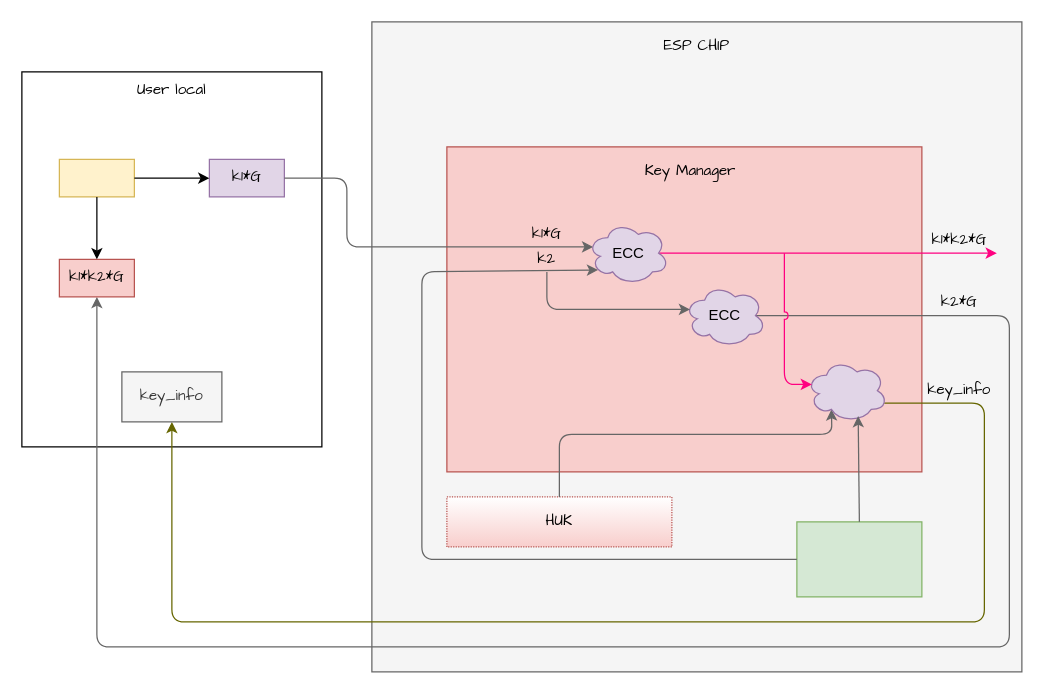
This 1044x694 diagram has some shape labels left out. The shapes that lost their labels are listed below. From the top down, each one's box as (x1, y1, x2, y2) in pixels, then its label:
(58, 158, 134, 197): k1
(805, 358, 888, 422): AES
(796, 521, 922, 597): TRNG
